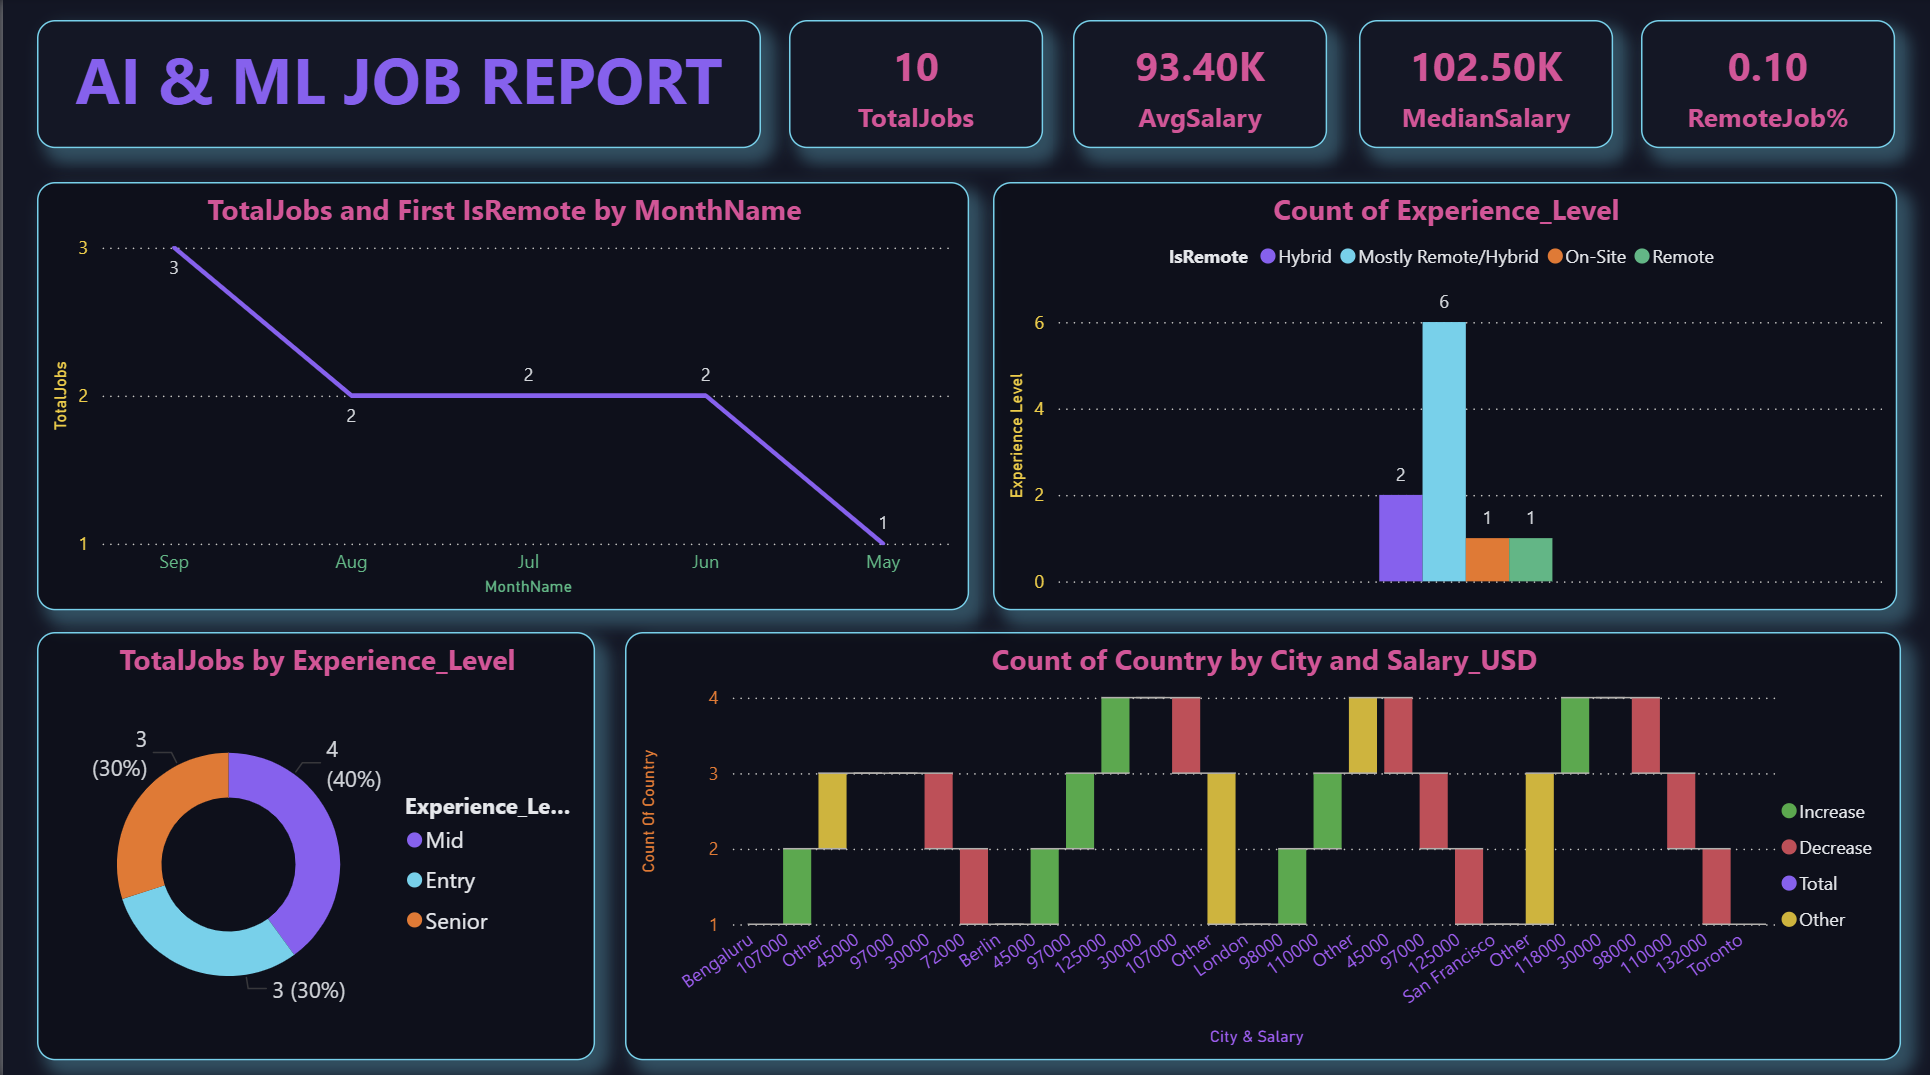

Layout of this report page (visuals, bound fields, positions):
{"tool":"powerbi","page":{"name":"Overview","canvas":[1280,720],"ordinal":0},"visuals":[{"type":"textbox","box":[22.5,15.9,480,84.9],"z":0},{"type":"card","fields":{"Values":["Fact_Jobs.TotalJobs"]},"box":[521.1,15.9,168.4,84.9],"z":1000},{"type":"card","fields":{"Values":["Fact_Jobs.AvgSalary"]},"box":[709.4,15.9,168.4,84.9],"z":2000},{"type":"card","fields":{"Values":["Fact_Jobs.MedianSalary"]},"box":[899,15.9,168.4,84.9],"z":3000},{"type":"card","fields":{"Values":["Fact_Jobs.RemoteJob%"]},"box":[1086,15.9,168.4,84.9],"z":4000},{"type":"lineChart","fields":{"Category":["Dim_Date.MonthName"],"Y":["Fact_Jobs.TotalJobs"]},"box":[22.5,123.3,617.9,283.8],"z":5000},{"type":"clusteredColumnChart","title":"Count of Experience_Level","fields":{"Y":["CountNonNull(Fact_Jobs.Experience_Level)"],"Series":["Fact_Jobs.IsRemote"]},"box":[656.4,123.3,599.3,283.8],"z":6000},{"type":"donutChart","fields":{"Category":["Fact_Jobs.Experience_Level"],"Y":["Fact_Jobs.TotalJobs"]},"box":[22.5,421.7,369.9,283.8],"z":7000},{"type":"waterfallChart","fields":{"Category":["Dim_Locations.City"],"Breakdown":["Fact_Jobs.Salary_USD"],"Y":["CountNonNull(Dim_Locations.Country)"]},"box":[412.4,421.7,846,283.8],"z":8000}]}

Visuals, with their boxes in screenshot pixels (x1, y1, x2, y2), scaled from the page's 1280x720 canvas onto the 1930x1075 screenshot:
textbox: 34:24:758:151
card - Fact_Jobs.TotalJobs: 786:24:1040:151
card - Fact_Jobs.AvgSalary: 1070:24:1324:151
card - Fact_Jobs.MedianSalary: 1356:24:1609:151
card - Fact_Jobs.RemoteJob%: 1637:24:1891:151
lineChart - Dim_Date.MonthName x Fact_Jobs.TotalJobs: 34:184:966:608
"Count of Experience_Level" clusteredColumnChart: 990:184:1893:608
donutChart - Fact_Jobs.Experience_Level x Fact_Jobs.TotalJobs: 34:630:592:1053
waterfallChart - Dim_Locations.City x Fact_Jobs.Salary_USD: 622:630:1897:1053
